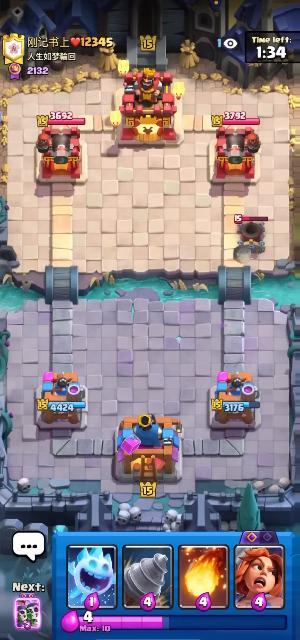enemy_building: (233, 213, 269, 254)
